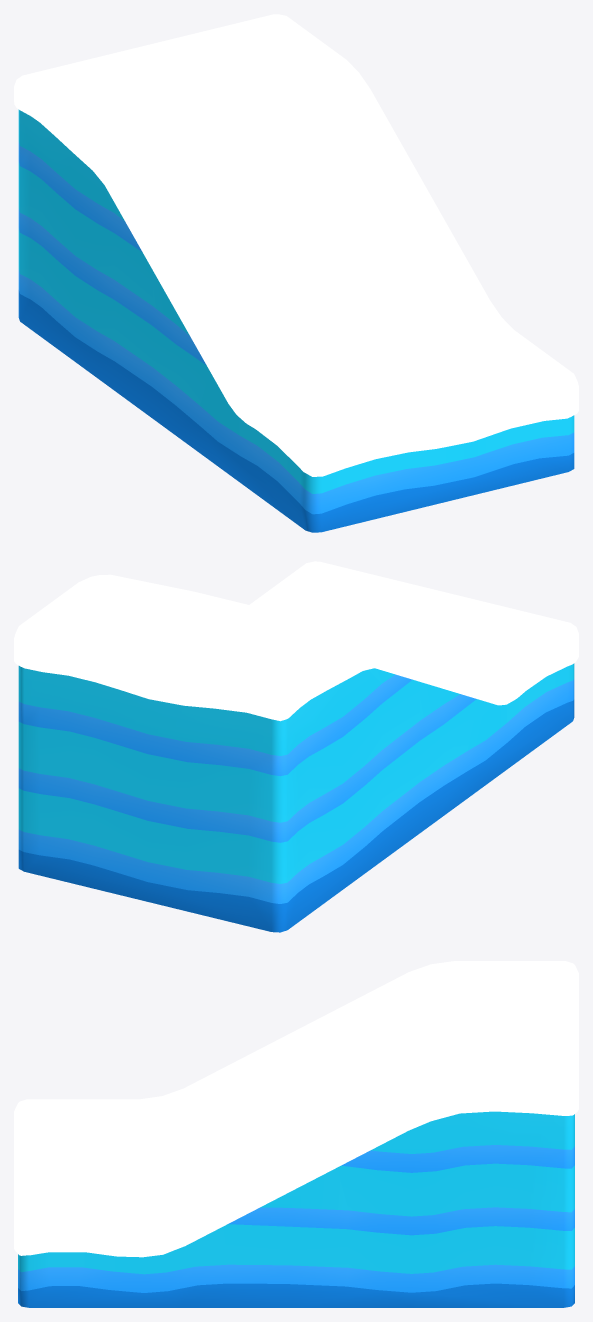
The model's file is ice_platform_001.glb.
3 renders of one model, top to bottom at view 1: azimuth 30°, elevation 25°; view 2: azimuth 150°, elevation 25°; view 3: azimuth 270°, elevation 25°, orthographic. The views are drawn at different scales.
Parts seen in each view (by area): view 1: ice_platform_001; view 2: ice_platform_001; view 3: ice_platform_001.
Part boxes in pixels (x1=…): ice_platform_001: x1=14, y1=14, x2=578, y2=532; ice_platform_001: x1=14, y1=561, x2=578, y2=932; ice_platform_001: x1=14, y1=961, x2=578, y2=1307.
Size of the model in its own units: 4.47 by 3.83 by 8.49.
2 materials, 2 textured.
